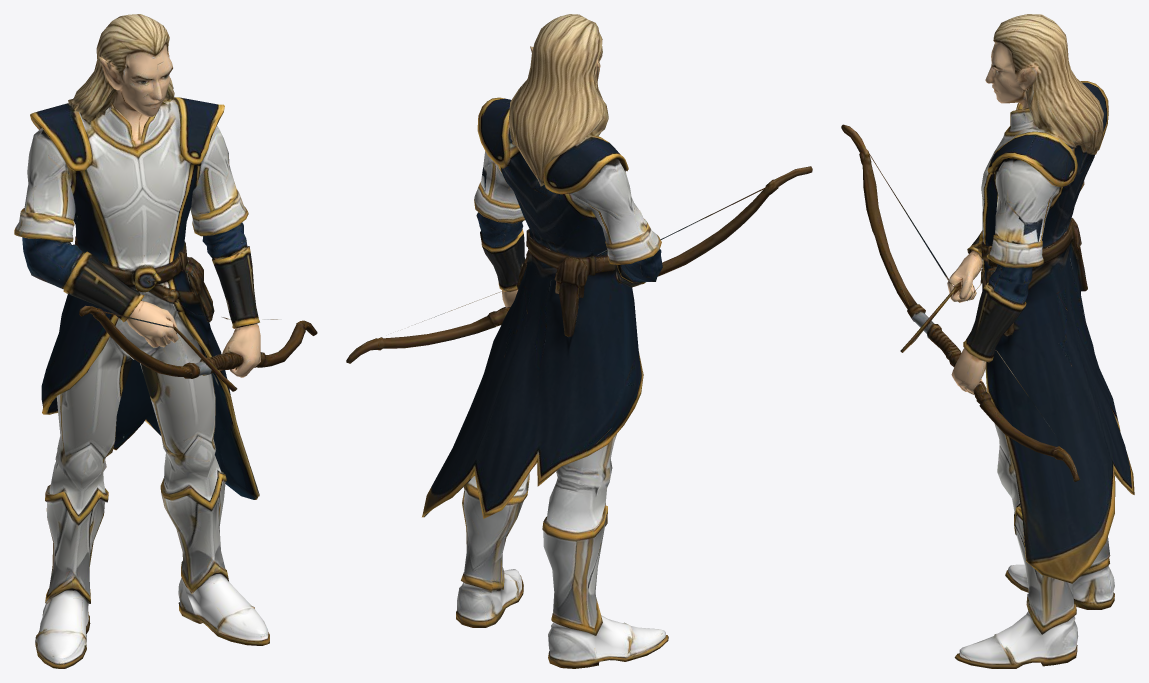
Rendered from fantarcere.glb.
3 renders of one model, left to right at view 1: azimuth 30°, elevation 25°; view 2: azimuth 150°, elevation 25°; view 3: azimuth 270°, elevation 25°, orthographic. The views are drawn at different scales.
Size of the model in its own units: 0.5698 by 0.9512 by 0.4209.
1 material, 1 textured.
